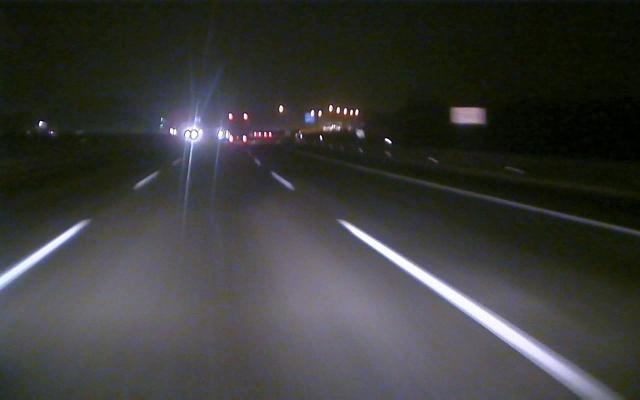lane: (275, 176, 621, 398), (377, 168, 640, 238), (1, 176, 150, 289)
